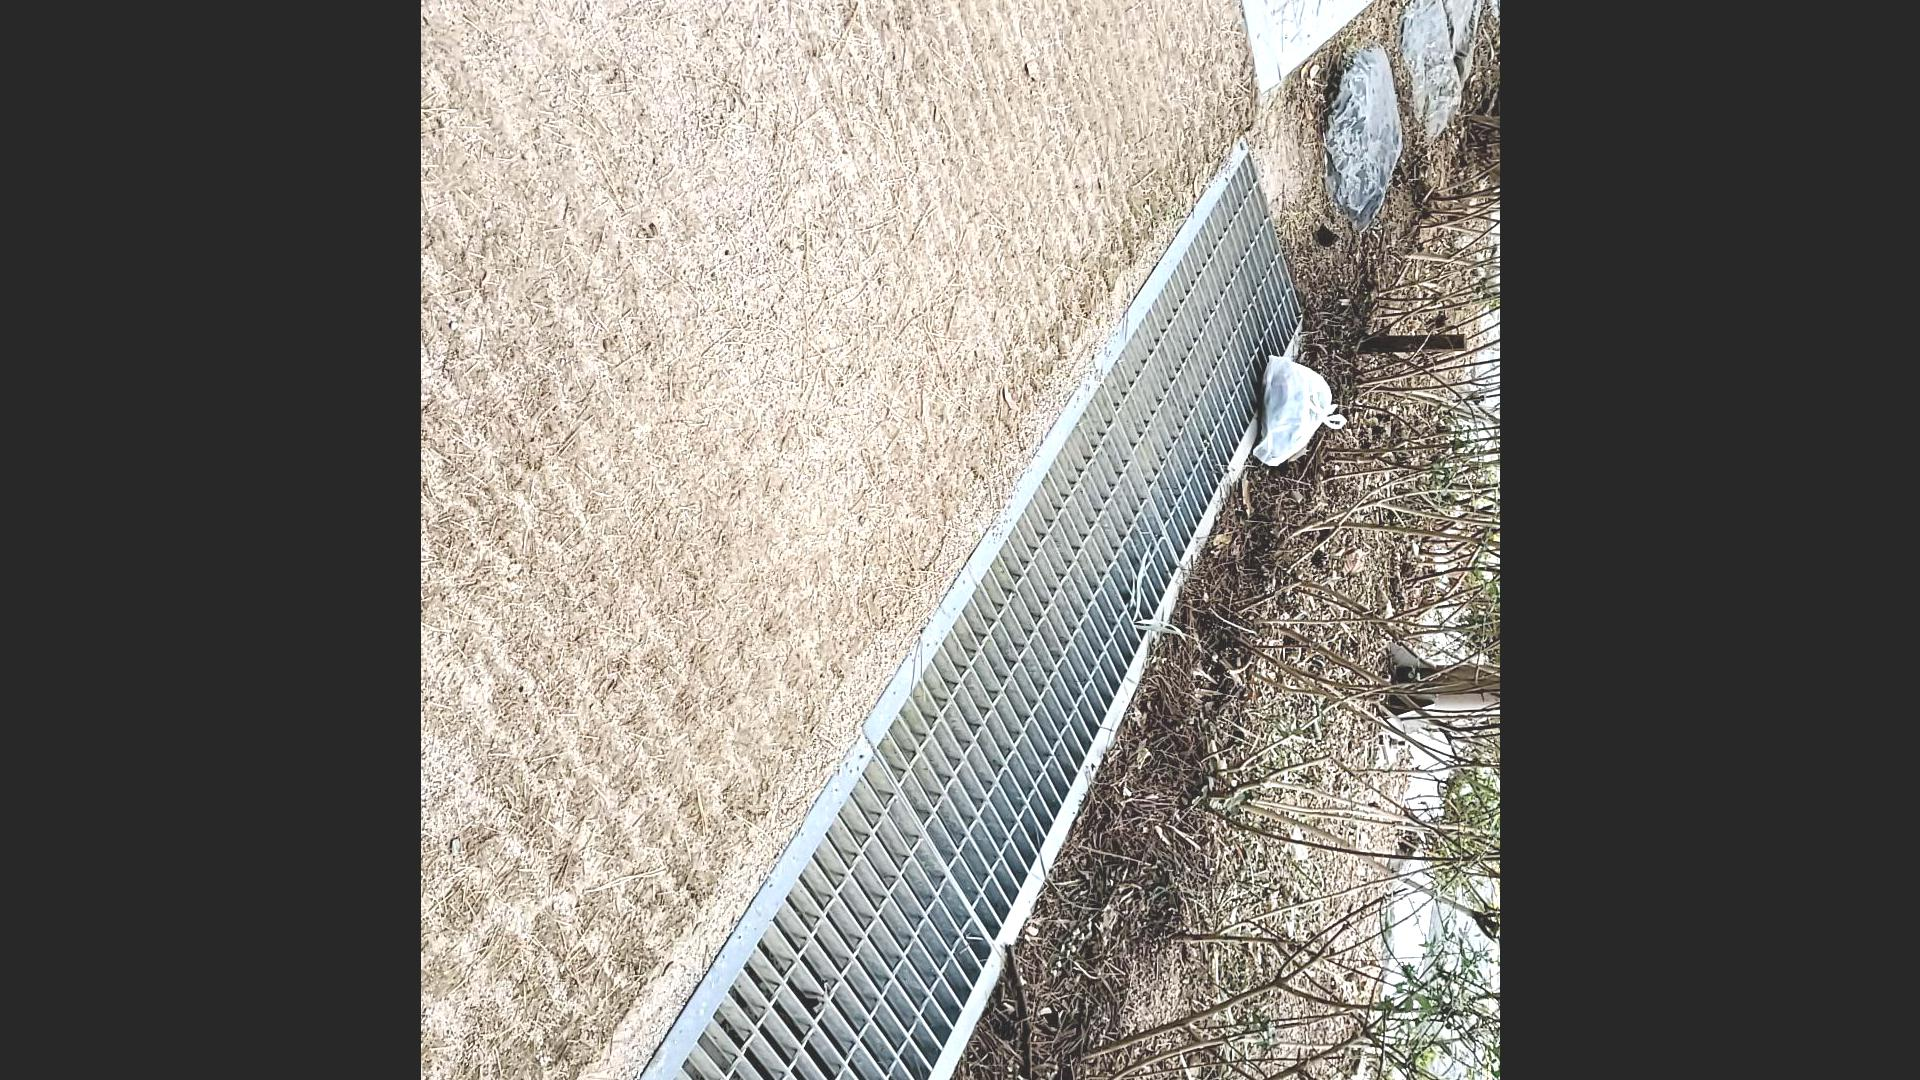white_bag: (1247, 343, 1349, 475)
